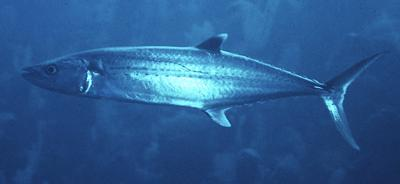Scombridae -Tunas-: (13, 28, 393, 157)
